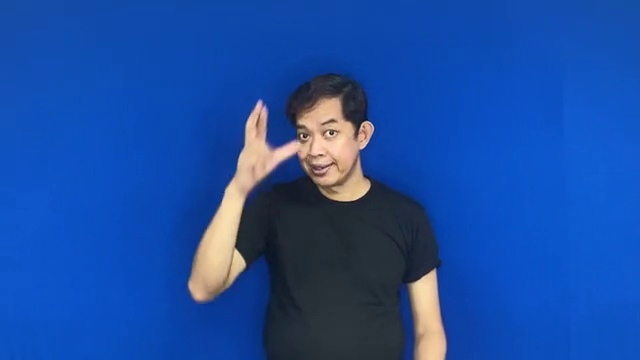chicken: (219, 95, 305, 191)
